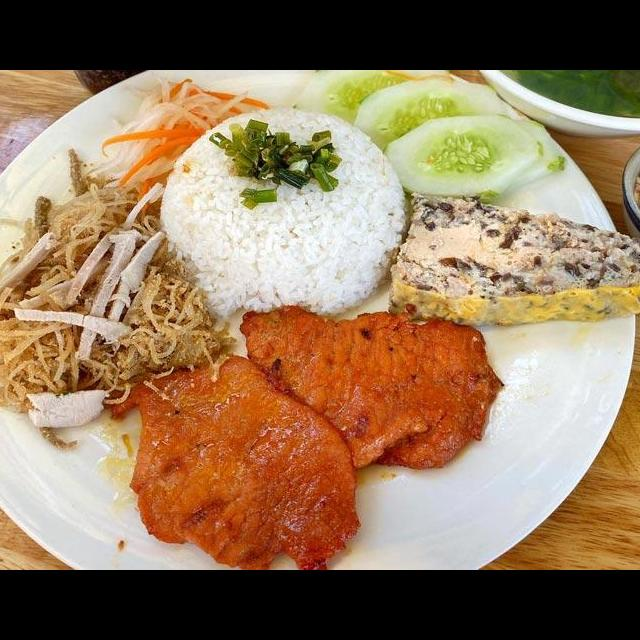bi: (0, 146, 240, 451)
cha: (387, 187, 640, 329)
com: (156, 104, 414, 322)
com suon bi cha: (0, 96, 640, 570)
dua chua: (80, 73, 273, 209)
suon: (98, 350, 363, 570), (237, 300, 507, 473)
